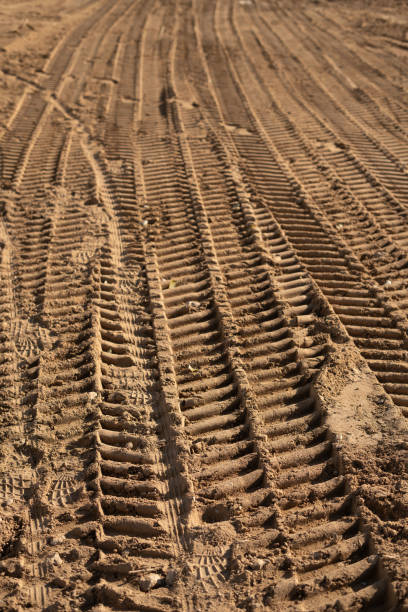vehicle_track: (0, 0, 407, 611), (175, 87, 329, 537), (213, 55, 405, 405), (73, 6, 183, 610), (141, 66, 262, 605), (5, 101, 108, 608), (66, 141, 177, 610), (237, 32, 405, 307), (241, 33, 405, 309), (76, 225, 177, 609), (4, 190, 93, 608), (23, 190, 94, 608), (273, 19, 407, 206), (1, 0, 130, 194), (268, 69, 406, 246), (294, 11, 406, 163), (2, 90, 74, 315), (304, 9, 407, 130), (0, 201, 28, 506), (42, 2, 111, 92)
